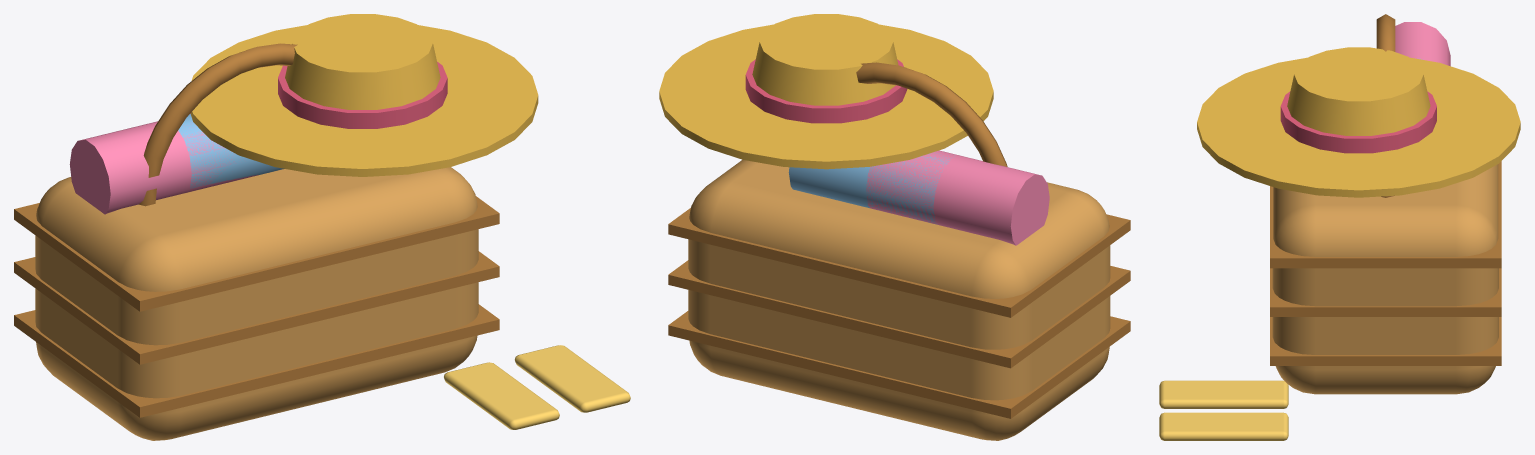
The model's file is deckbox-basket.glb.
The picture shows the model from 3 angles, left to right: view 1: azimuth 30°, elevation 25°; view 2: azimuth 150°, elevation 25°; view 3: azimuth 270°, elevation 25°; orthographic projection. The views are drawn at different scales.
Size of the model in its own units: 0.855 by 0.62 by 0.67.
